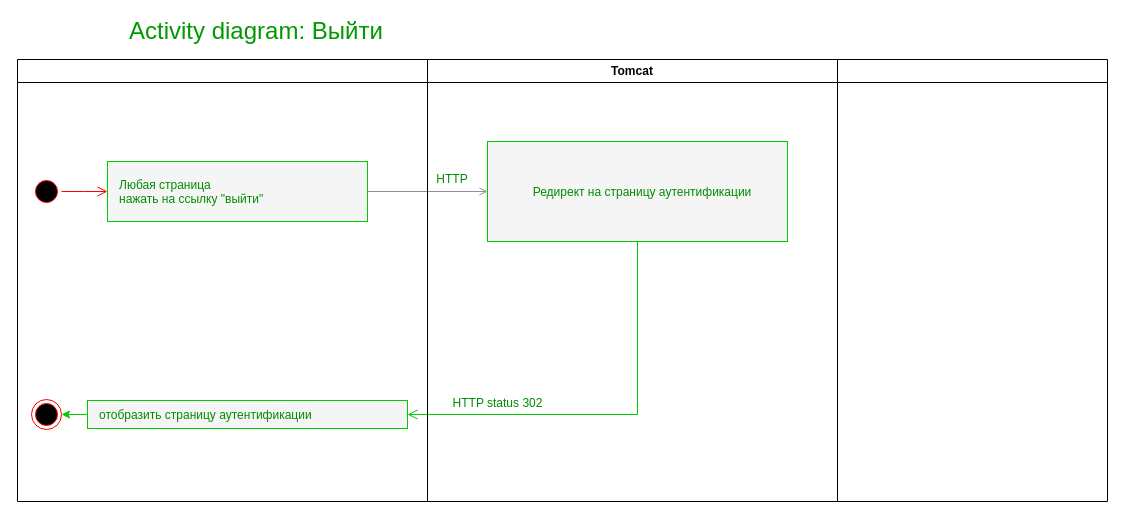
The diagram is 1125 pixels wide and 519 high, and some of its shapes have lost their labels. Here are the shapes that lost their labels. From the top down, the box of each, then its label:
(16, 58, 428, 502): Браузер
(836, 58, 1108, 502): PostgreSQL
